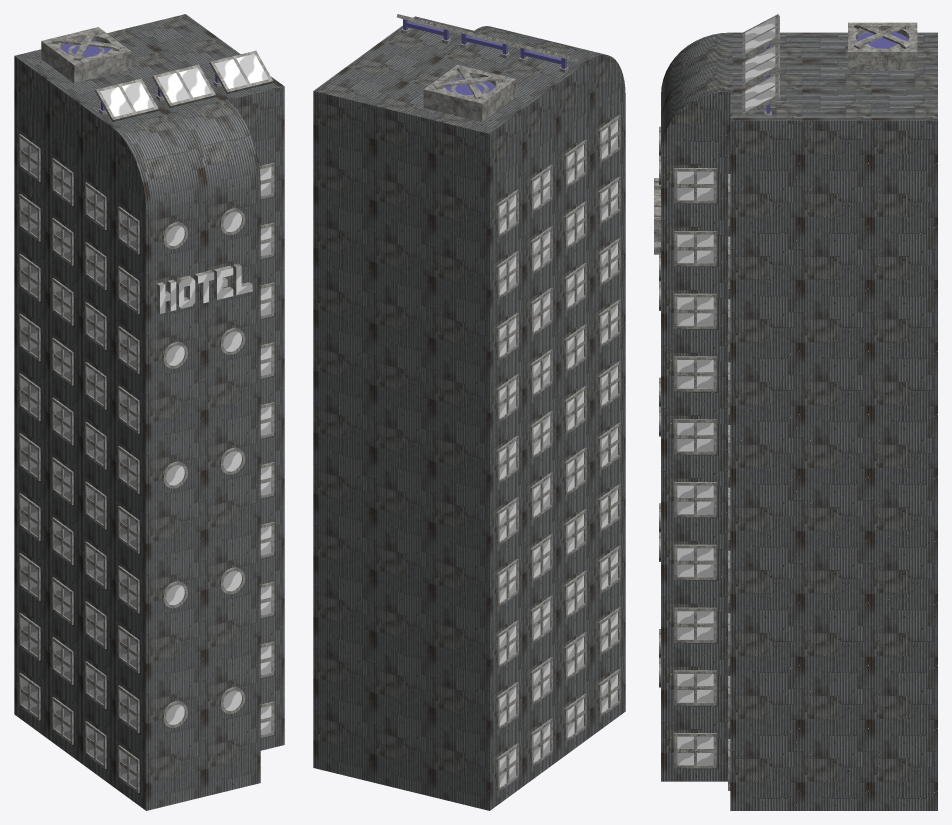
File: cyber_building_01.fbx
3 renders of one model, left to right at view 1: azimuth 30°, elevation 25°; view 2: azimuth 150°, elevation 25°; view 3: azimuth 270°, elevation 25°, orthographic. The views are drawn at different scales.
Parts seen in each view (by area): view 1: mergedBlocks; view 2: mergedBlocks; view 3: mergedBlocks.
Boxes of the visible parts, bbox=[...] form: mergedBlocks: bbox=[14, 14, 284, 810]; mergedBlocks: bbox=[313, 14, 625, 810]; mergedBlocks: bbox=[654, 14, 937, 810].
Bounding box in the file's own units: 30.3 × 114 × 41.
